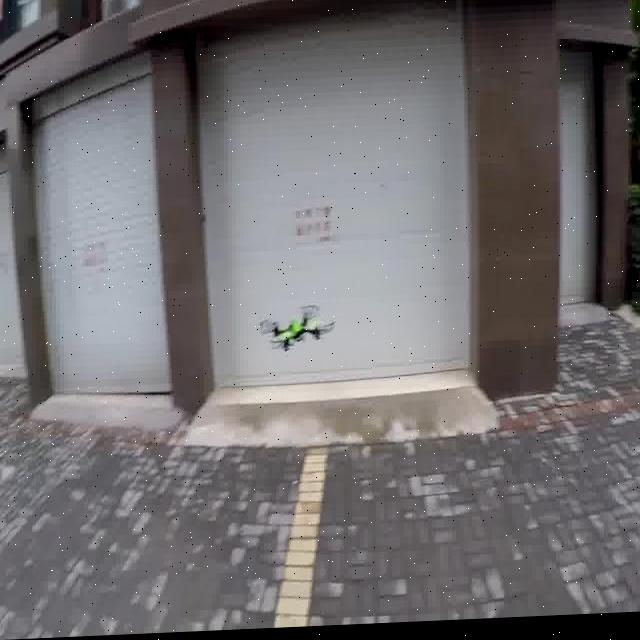drone: (258, 299, 340, 368)
